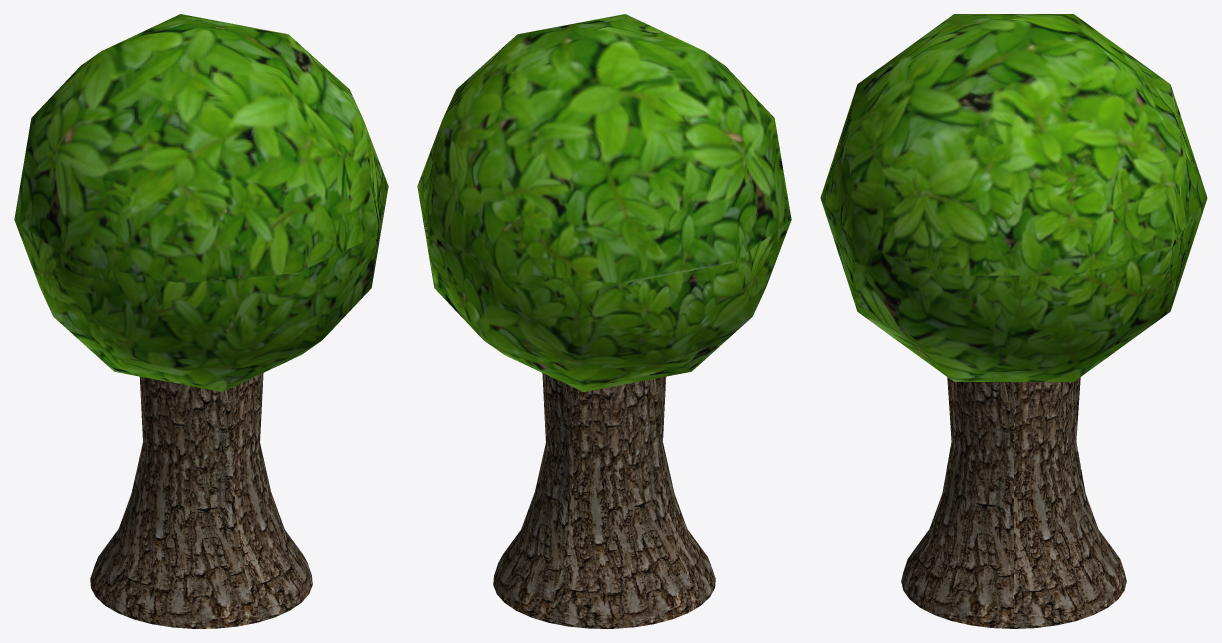
File: tree.obj
3 renders of one model, left to right at view 1: azimuth 30°, elevation 25°; view 2: azimuth 150°, elevation 25°; view 3: azimuth 270°, elevation 25°, orthographic.
Parts seen in each view (by area): view 1: Icosphere, Sphere; view 2: Icosphere, Sphere; view 3: Icosphere, Sphere.
Boxes of the visible parts, <box> form: Icosphere: <box>14,14,388,391</box>; Sphere: <box>90,373,312,628</box>; Icosphere: <box>417,14,791,391</box>; Sphere: <box>493,373,715,628</box>; Icosphere: <box>820,14,1207,381</box>; Sphere: <box>901,377,1126,628</box>.
Size of the model in its own units: 2.61 by 4.37 by 2.75.
